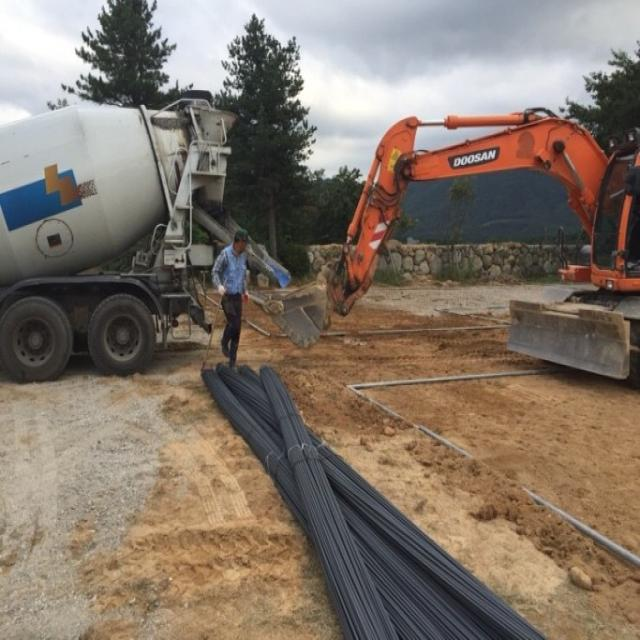excavator: (254, 108, 640, 392)
mixed: (0, 91, 292, 384)
steel: (217, 364, 545, 640), (200, 368, 446, 640), (259, 365, 397, 640)
